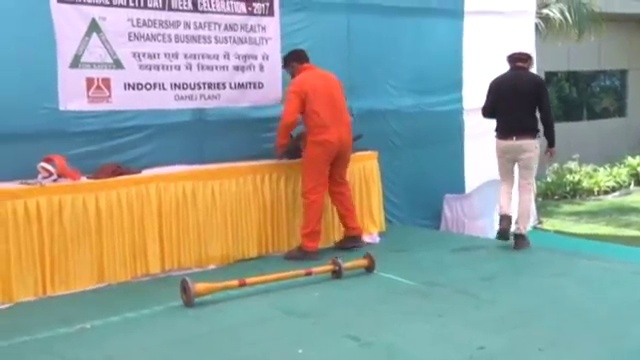helmet: (504, 42, 537, 67)
helmet_off: (282, 50, 311, 78)
helmet_on: (502, 42, 539, 72)
person: (277, 48, 365, 257), (482, 42, 557, 243)
